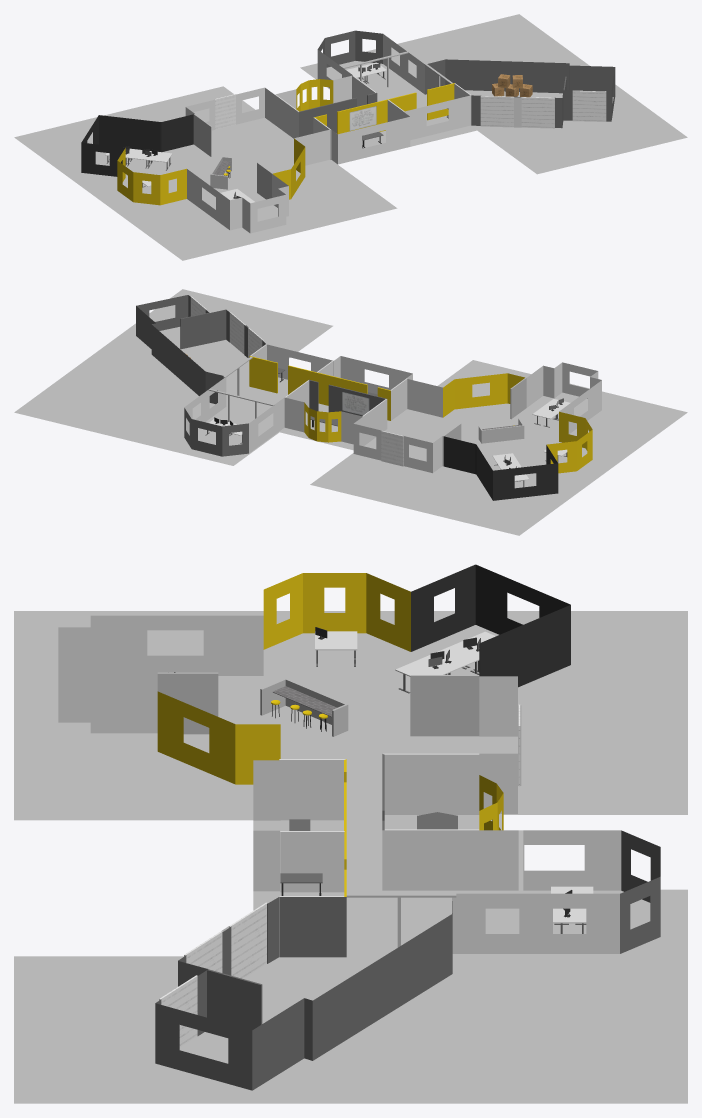
The model's file is office.dae.
3 views of the same model, one above another, from view 1: azimuth 30°, elevation 25°; view 2: azimuth 150°, elevation 25°; view 3: azimuth 270°, elevation 25° (orthographic). The views are drawn at different scales.
Visible parts, largest first — view 1: Plane.008, Plane.011, Plane.004, Cube.002, Cube.001, Cube, Plane.002, Cube.004, whiteboard; view 2: Plane.008, Plane.011, Plane.004, Cube.004, Plane.002, whiteboard.001, Cube; view 3: Plane.008, Plane.011, Plane.004, Plane.002, Cube.001, Cube.002, Cube.
Boxes of the visible parts, x1,y1,x2,y2 form: Plane.008: [14, 14, 687, 260]; Plane.011: [81, 30, 615, 233]; Plane.004: [193, 114, 272, 199]; Cube.002: [572, 90, 606, 121]; Cube.001: [480, 96, 513, 127]; Cube: [521, 97, 554, 128]; Plane.002: [332, 116, 476, 164]; Cube.004: [214, 94, 235, 129]; whiteboard: [349, 106, 376, 130]; Plane.008: [14, 289, 687, 535]; Plane.011: [136, 295, 601, 500]; Plane.004: [443, 377, 526, 466]; Cube.004: [381, 431, 403, 466]; Plane.002: [278, 377, 353, 450]; whiteboard.001: [342, 392, 369, 415]; Cube: [230, 312, 245, 354]; Plane.008: [14, 611, 687, 1103]; Plane.011: [58, 564, 660, 1090]; Plane.004: [157, 672, 479, 736]; Plane.002: [253, 815, 501, 910]; Cube.001: [229, 902, 267, 978]; Cube.002: [159, 975, 197, 1047]; Cube: [184, 931, 222, 972].
Bounding box in the file's own units: 44.01 × 25.45 × 2.51.
